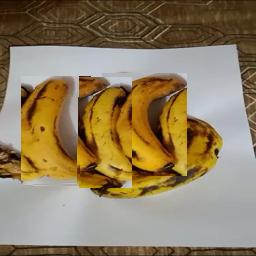Banana Semifresh: (102, 73, 187, 176), (21, 77, 91, 187), (79, 77, 132, 188)
